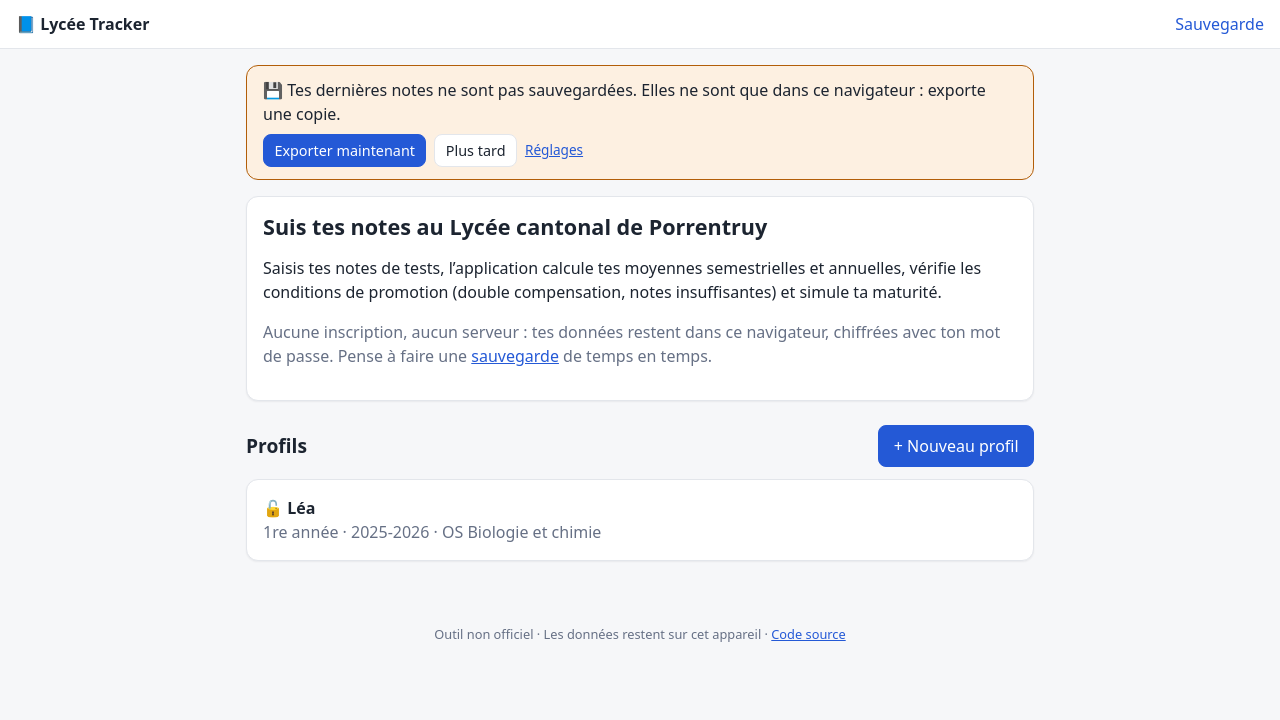
Test: App › shows the backup reminder for old unsaved changes and hides it when snoozed
The width and height of the screenshot is (1280, 720).
Expected: the text "ne sont pas sauvegardées" is shown, x1=263 y1=79 x2=633 y2=101
Click the button "Plus tard" at (476, 151), box x1=434 y1=134 x2=517 y2=167
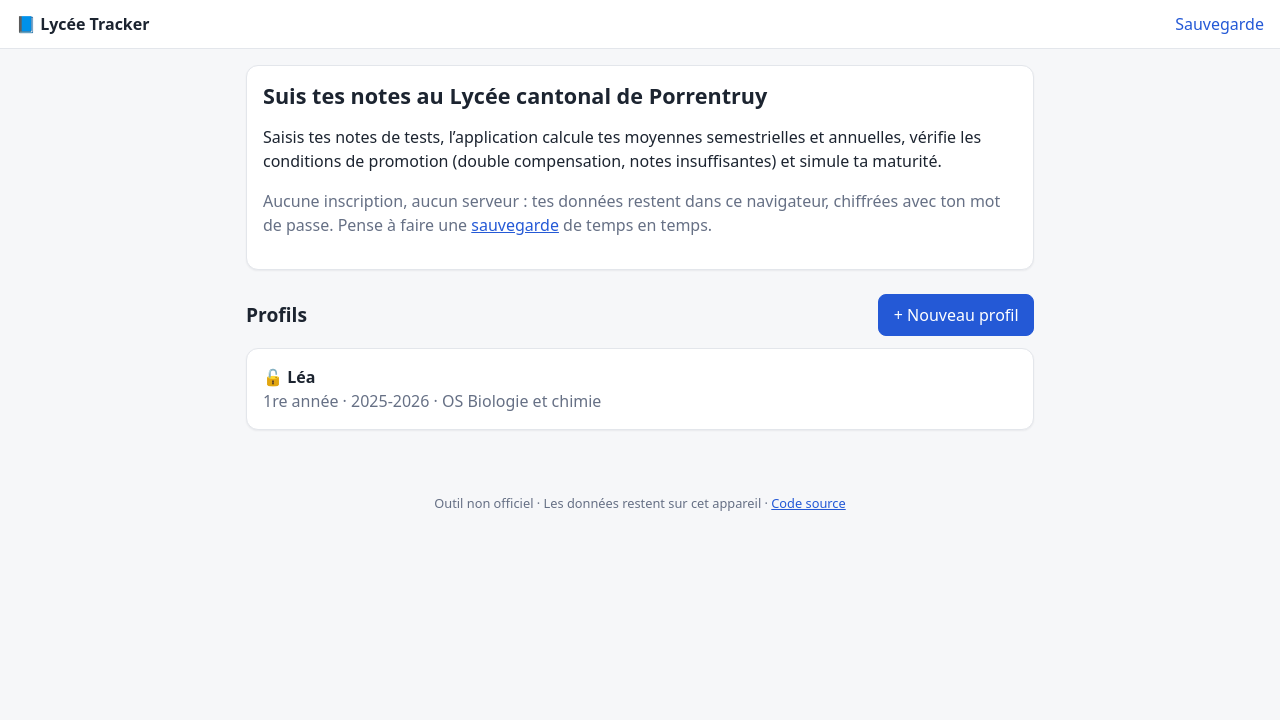
Result: the text "ne sont pas sauvegardées" is gone
